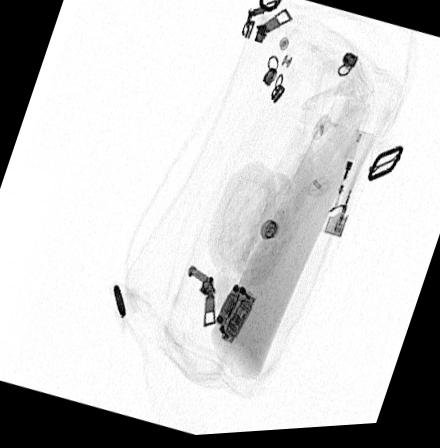Lighter: (321, 134, 374, 244)
